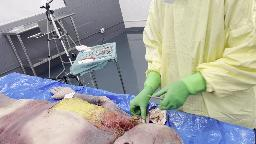scalpel: (148, 95, 164, 101)
